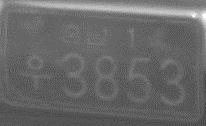1: (125, 26, 138, 47)
3: (61, 51, 87, 98), (159, 59, 185, 106)
5: (127, 57, 152, 106)
8: (94, 56, 117, 102)
우: (21, 55, 51, 89)
충남_O: (61, 21, 108, 48)
